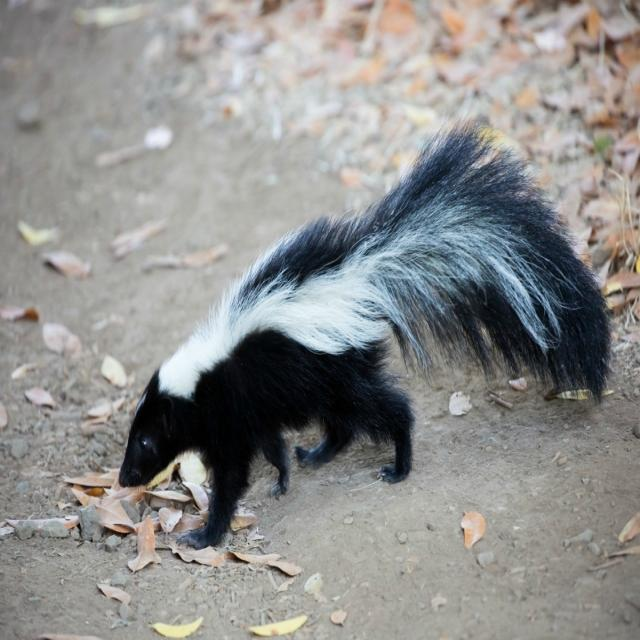Skunk: (110, 159, 610, 554)
